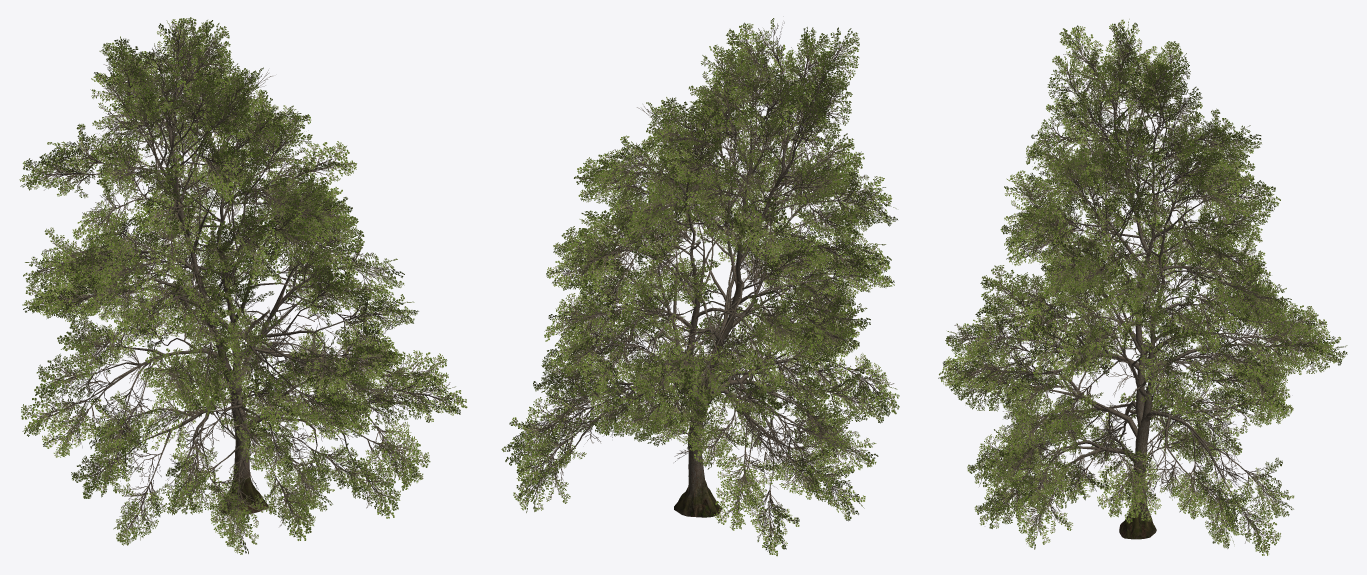
The model's file is SM_BlackAlder_Field_01_PP_LOD4.gltf.
3 views of the same model, side by side, from view 1: azimuth 30°, elevation 25°; view 2: azimuth 150°, elevation 25°; view 3: azimuth 270°, elevation 25° (orthographic). The views are drawn at different scales.
Visible parts, largest first — view 1: SM_BlackAlder_Field_01_PP; view 2: SM_BlackAlder_Field_01_PP; view 3: SM_BlackAlder_Field_01_PP.
Part boxes in pixels (bbox=[...]): SM_BlackAlder_Field_01_PP: bbox=[19, 17, 467, 554]; SM_BlackAlder_Field_01_PP: bbox=[501, 18, 899, 556]; SM_BlackAlder_Field_01_PP: bbox=[938, 19, 1347, 555].
Bounding box in the file's own units: 12.08 × 16.05 × 12.94.
3 materials, 3 textured.
